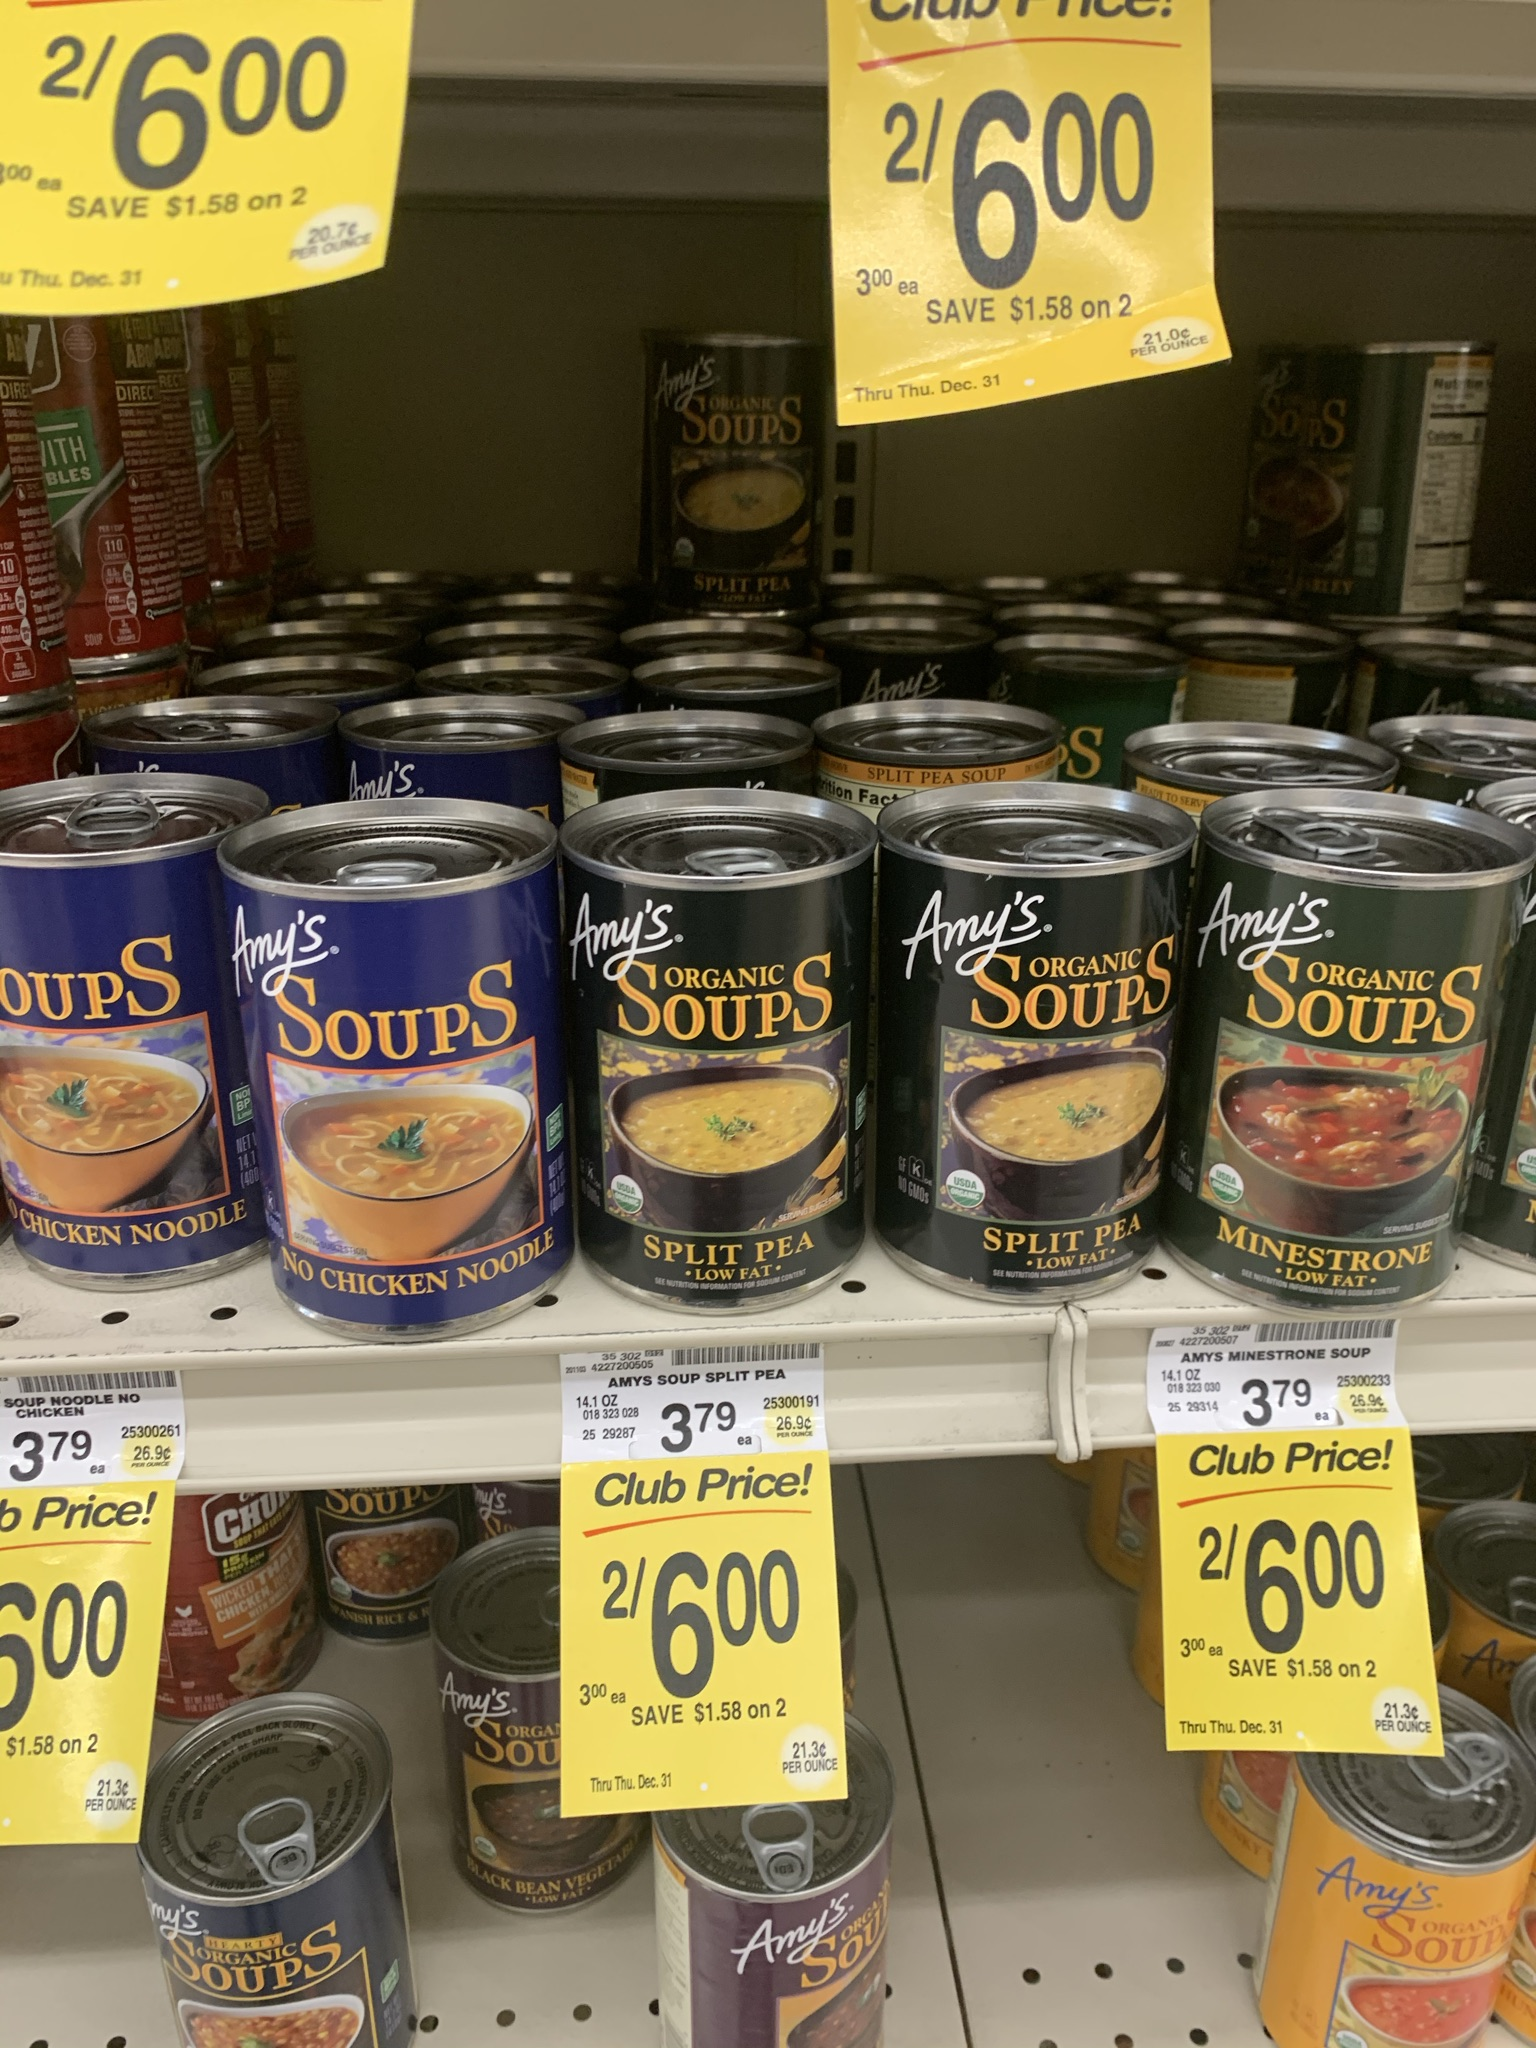can: (252, 864, 544, 1305), (1207, 843, 1475, 1300), (587, 869, 849, 1279), (916, 848, 1163, 1268), (11, 856, 240, 1272), (1281, 1775, 1536, 2048), (1246, 342, 1491, 624), (641, 326, 836, 622), (650, 1848, 891, 2048)
